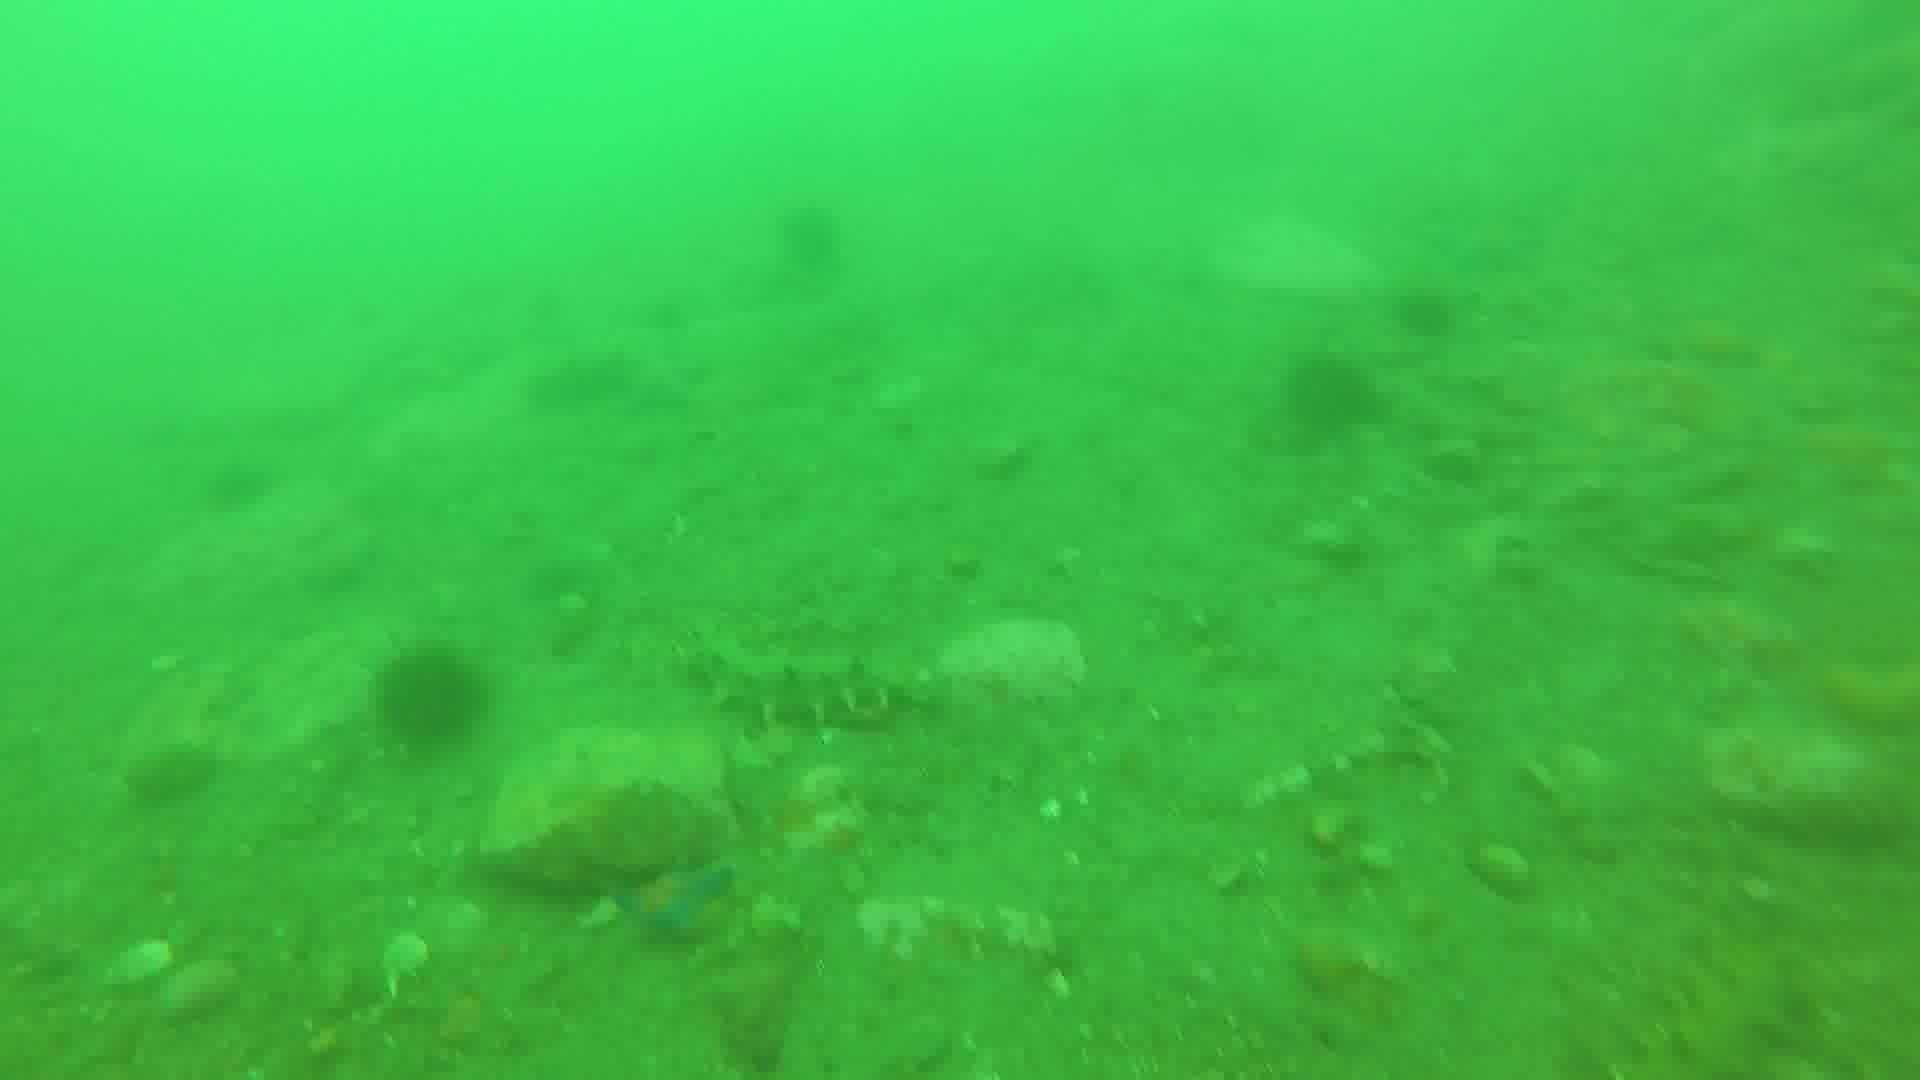echinus: (368, 644, 491, 757), (1278, 349, 1379, 440), (771, 196, 848, 276), (200, 455, 277, 518), (1390, 284, 1460, 344)
holothurian: (680, 622, 930, 735)
starfish: (613, 853, 738, 952), (1428, 196, 1547, 280), (607, 345, 712, 421)
